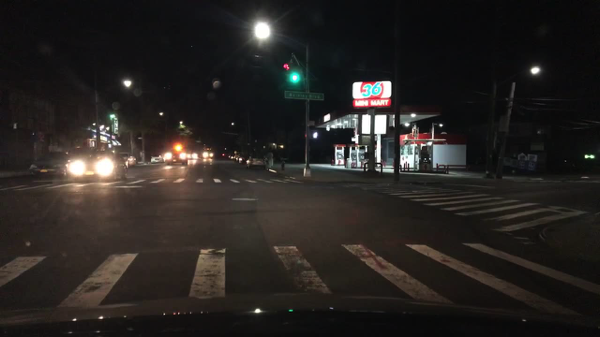car: (68, 151, 130, 179), (29, 151, 69, 180), (246, 154, 267, 171), (165, 149, 186, 165), (117, 152, 136, 167), (150, 154, 166, 164), (202, 148, 216, 159), (240, 155, 249, 166), (187, 152, 201, 159), (220, 152, 229, 159), (235, 154, 240, 163), (230, 154, 235, 161)
traffic light: (290, 72, 300, 82), (308, 130, 319, 139), (282, 63, 289, 71)
traffic sign: (283, 90, 324, 102), (499, 115, 508, 132), (307, 121, 316, 126), (136, 138, 143, 140)
